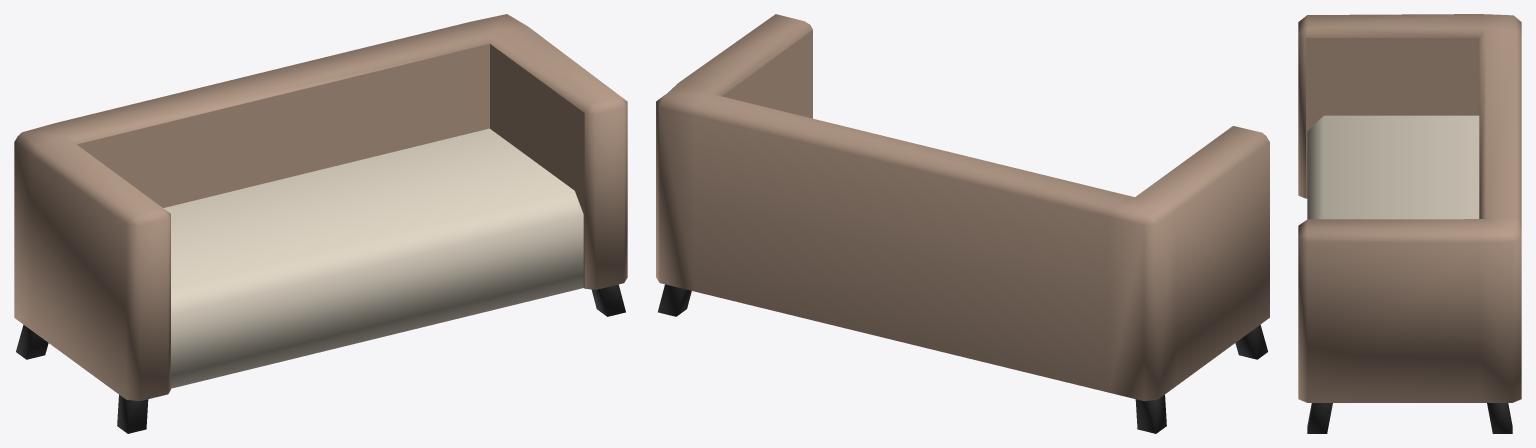
The model's file is scene_sofa.fbx.
3 renders of one model, left to right at view 1: azimuth 30°, elevation 25°; view 2: azimuth 150°, elevation 25°; view 3: azimuth 270°, elevation 25°, orthographic. The views are drawn at different scales.
Visible parts, largest first — view 1: sofa; view 2: sofa; view 3: sofa.
Boxes of the visible parts, box(x1,y1,x2,y2) form: sofa: box(14, 14, 627, 433); sofa: box(656, 14, 1269, 433); sofa: box(1298, 14, 1521, 433).
Bounding box in the file's own units: 251 × 104 × 106.
